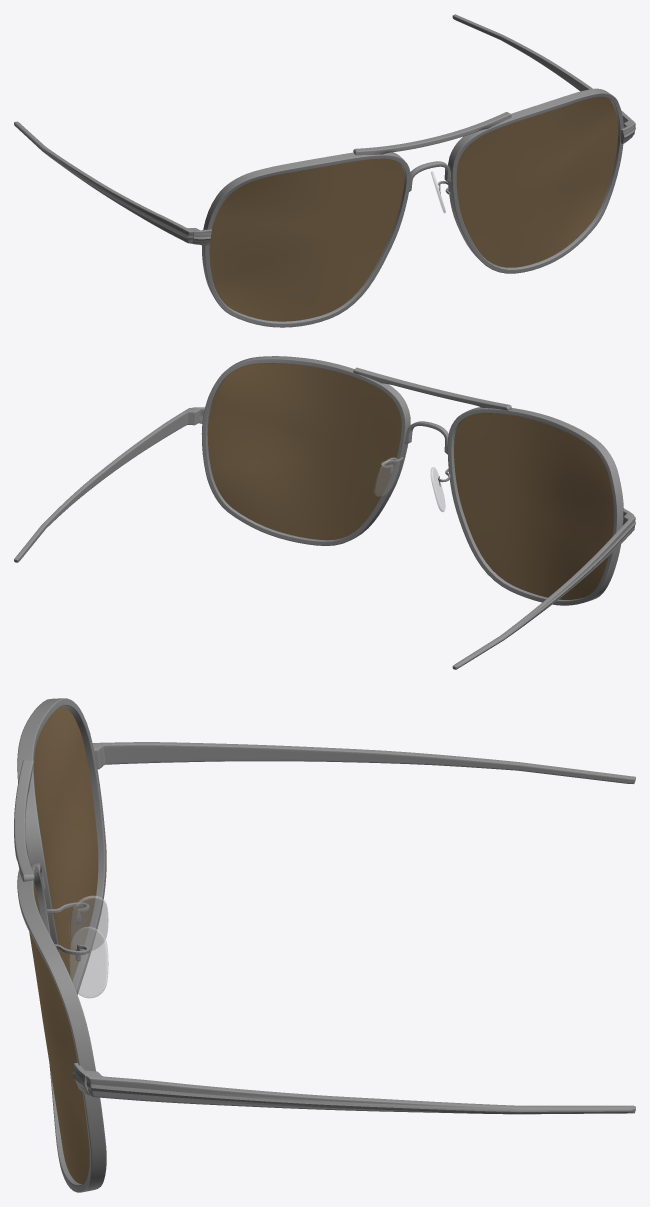
File: ChromanceApp_semimagem.glb
3 renders of one model, top to bottom at view 1: azimuth 30°, elevation 25°; view 2: azimuth 150°, elevation 25°; view 3: azimuth 270°, elevation 25°, orthographic. The views are drawn at different scales.
Visible parts, largest first — view 1: Lentes, armacao; view 2: Lentes, armacao, Pontes; view 3: armacao, Lentes, Pontes.
Part boxes in pixels (left/top/right/bottom): Lentes: left=209, top=97, right=618, bottom=321; armacao: left=14, top=14, right=635, bottom=327; Lentes: left=207, top=363, right=613, bottom=599; armacao: left=14, top=356, right=635, bottom=669; Pontes: left=373, top=457, right=445, bottom=511; armacao: left=14, top=698, right=635, bottom=1192; Lentes: left=29, top=706, right=98, bottom=1184; Pontes: left=69, top=895, right=108, bottom=998.
Bounding box in the file's own units: 0.1573 × 0.0556 × 0.1173.
